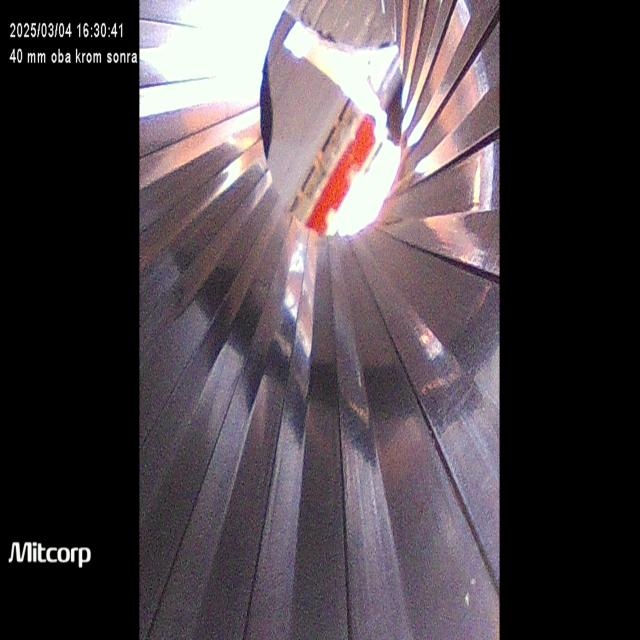hata_4.2: (378, 414, 447, 544)
